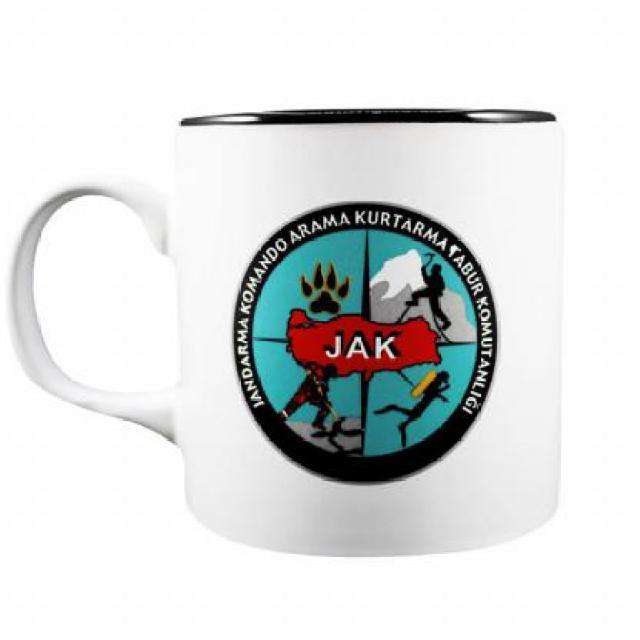taza: (9, 110, 570, 560)
